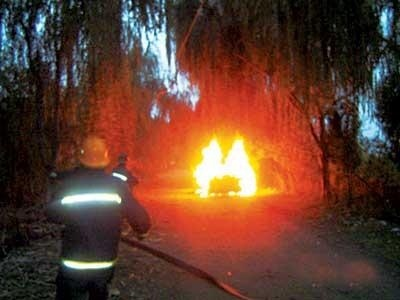fire: (190, 131, 261, 196)
